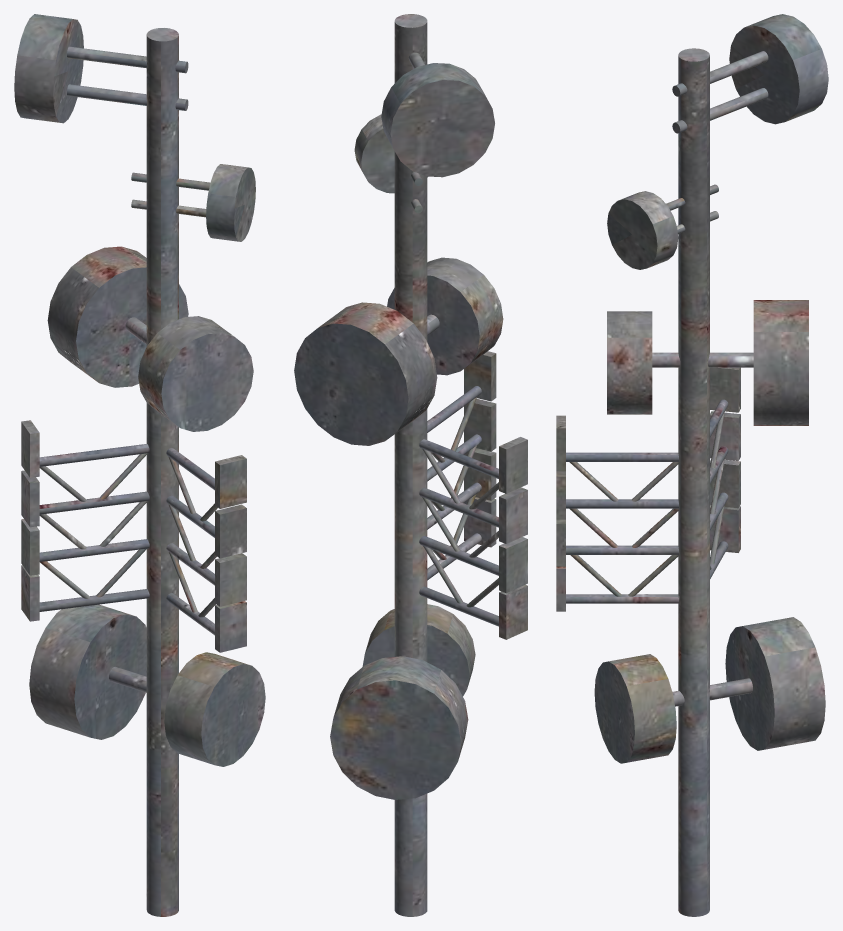
The model's file is rusted antennas2.fbx.
The picture shows the model from 3 angles, left to right: view 1: azimuth 30°, elevation 25°; view 2: azimuth 150°, elevation 25°; view 3: azimuth 270°, elevation 25°; orthographic projection. The views are drawn at different scales.
Visible parts, largest first — view 1: pCylinder88; view 2: pCylinder88; view 3: pCylinder88.
Part boxes in pixels (x1,y1,x2,y2): pCylinder88: (14,14,265,916); pCylinder88: (294,14,527,916); pCylinder88: (556,14,828,916).
Bounding box in the file's own units: 0.4877 × 0.5942 × 2.06.
